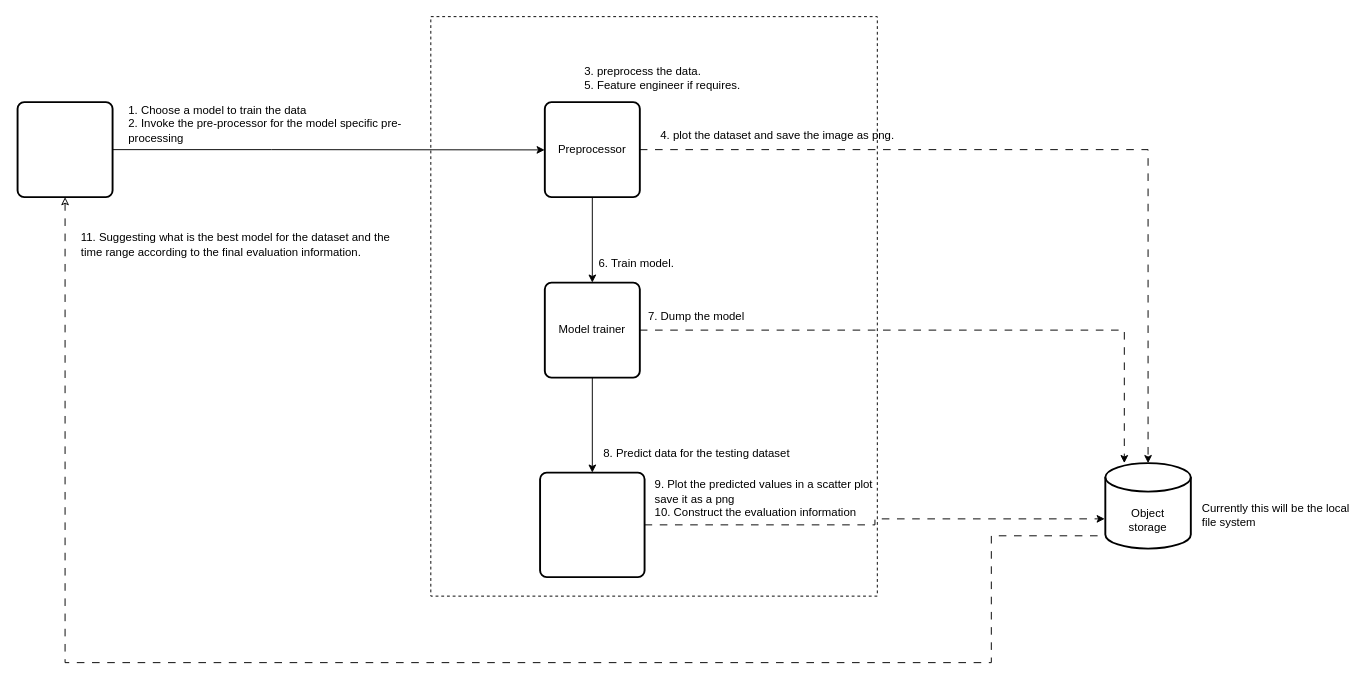
The diagram is 1368 pixels wide and 687 high, and some of its shapes have lost their labels. Each missing label, with the box of its shape:
Evaluator: (539, 471, 645, 578)
model-evaluator: (16, 101, 113, 198)
